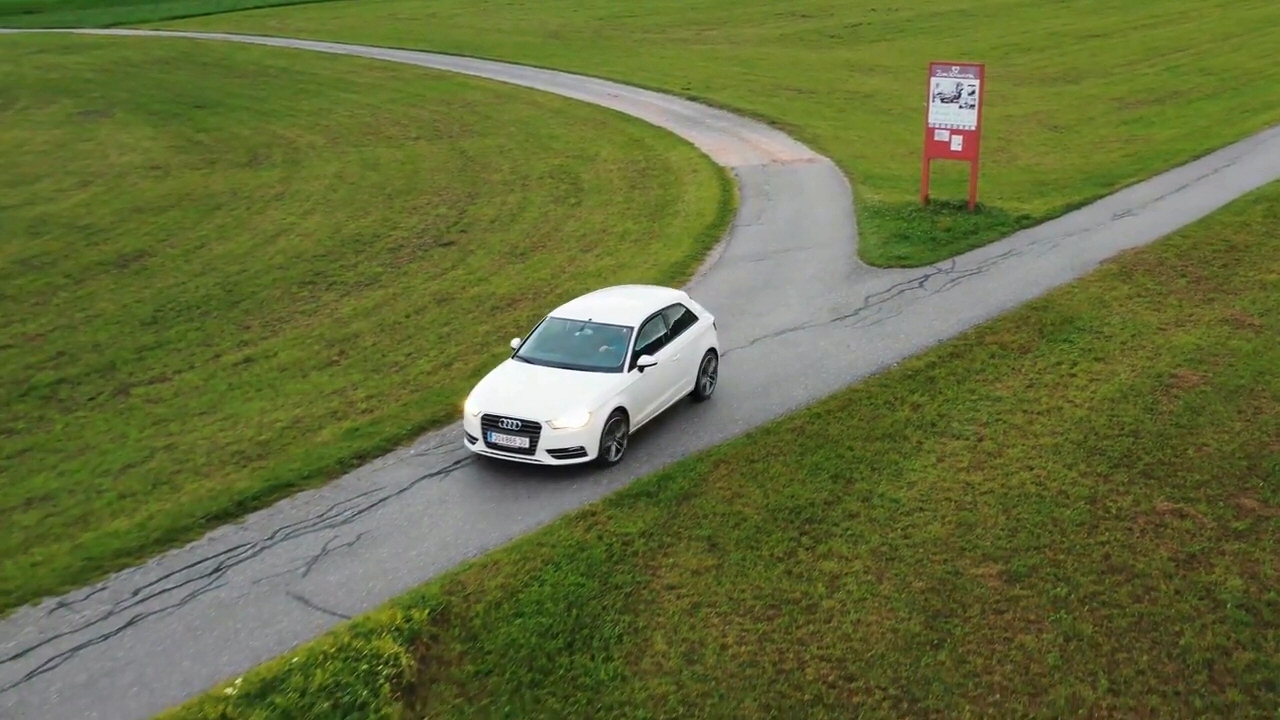araba: (453, 279, 718, 463)
